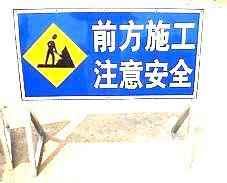sign: (14, 9, 199, 98)
